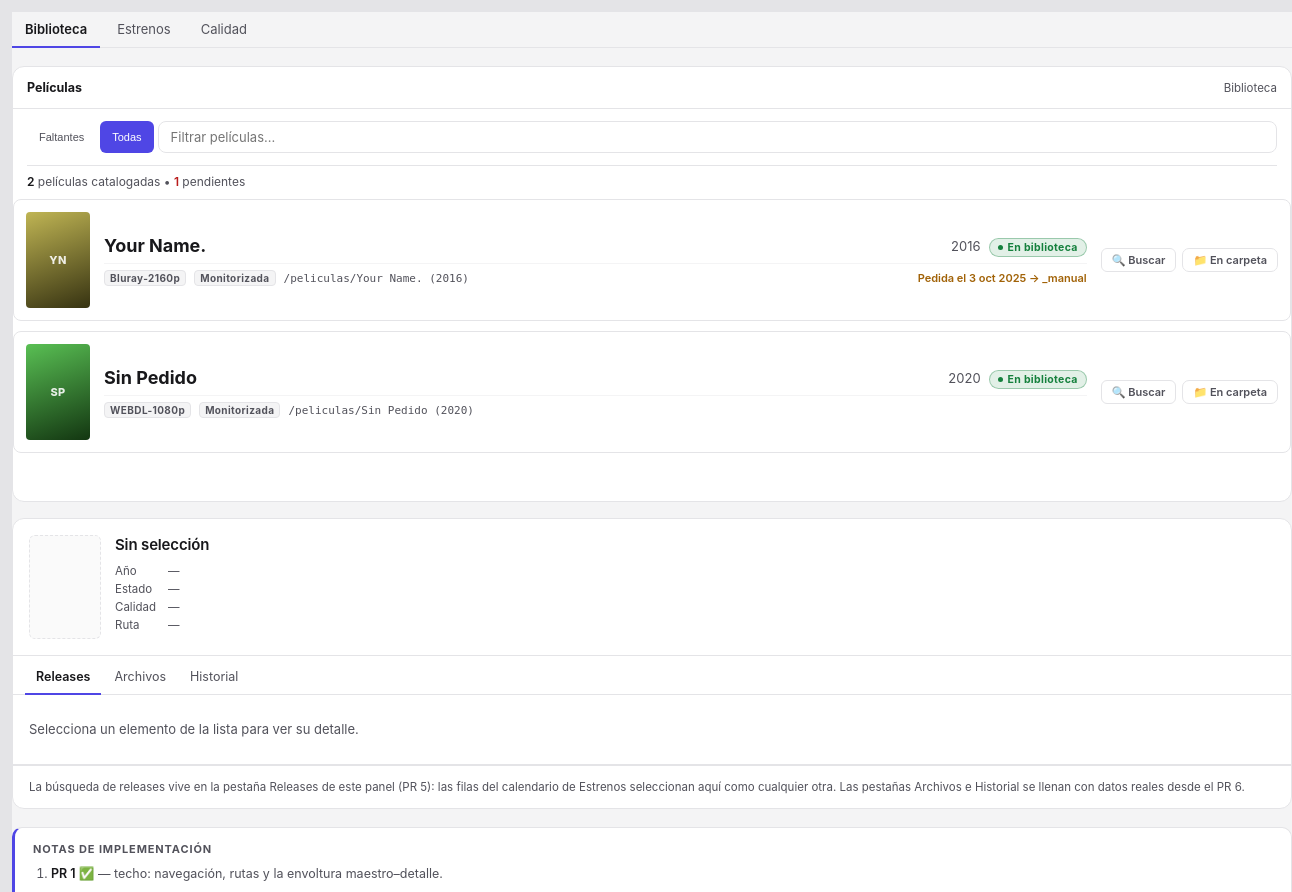
Scenario: sections · PR 6 — the detail tabs › Películas · Archivos says the entry has no path instead of guessing one
The image size is (1292, 892).
Expected: the text "Sin Pedido" is shown, [104,367,197,388]
Click the button "Faltantes" at [62, 137], box [27,121,96,153]
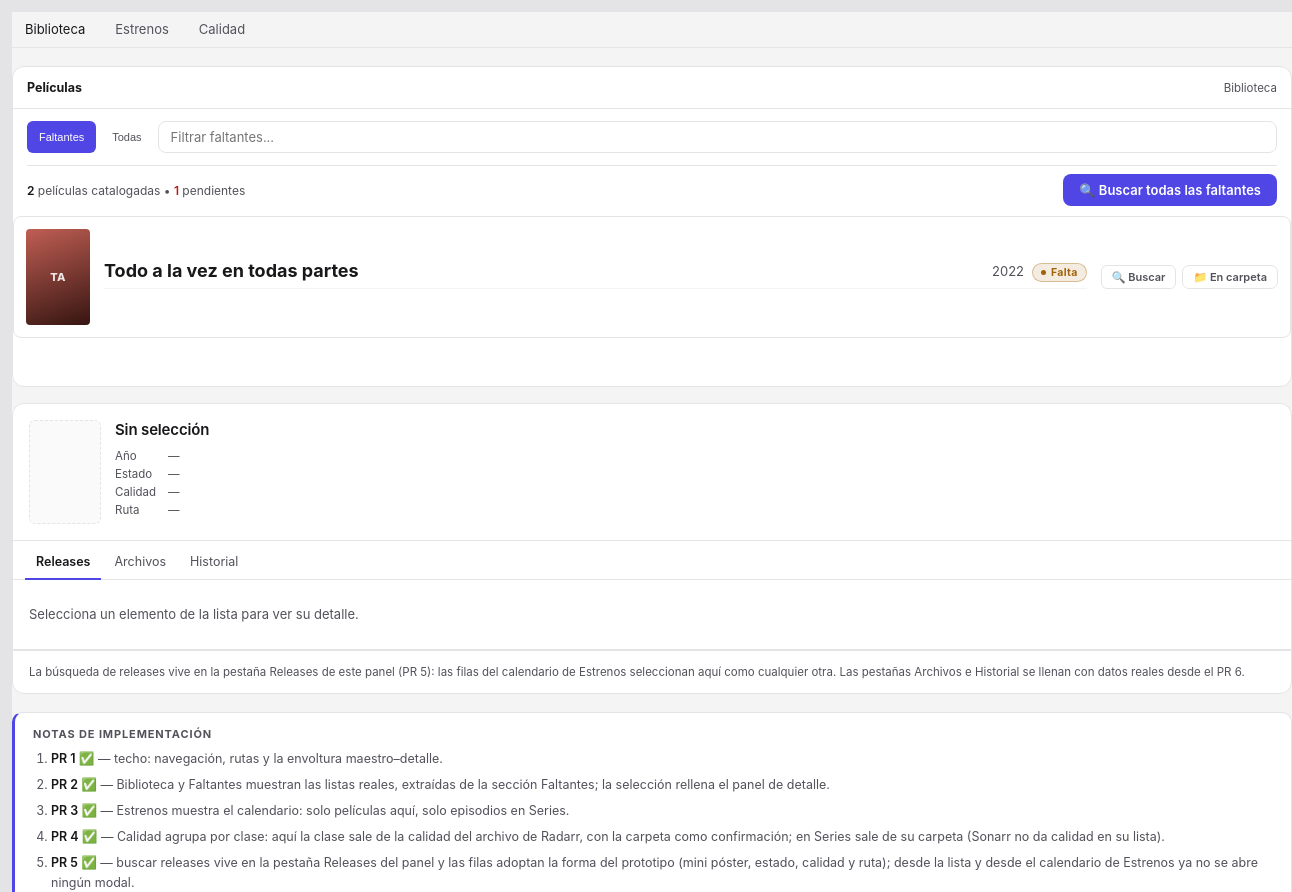
Expected: the text "Todo a la vez en todas partes" is shown, [104,260,359,281]
Click the element with class "sec-row" at [652, 277], box [13,216,1291,338]
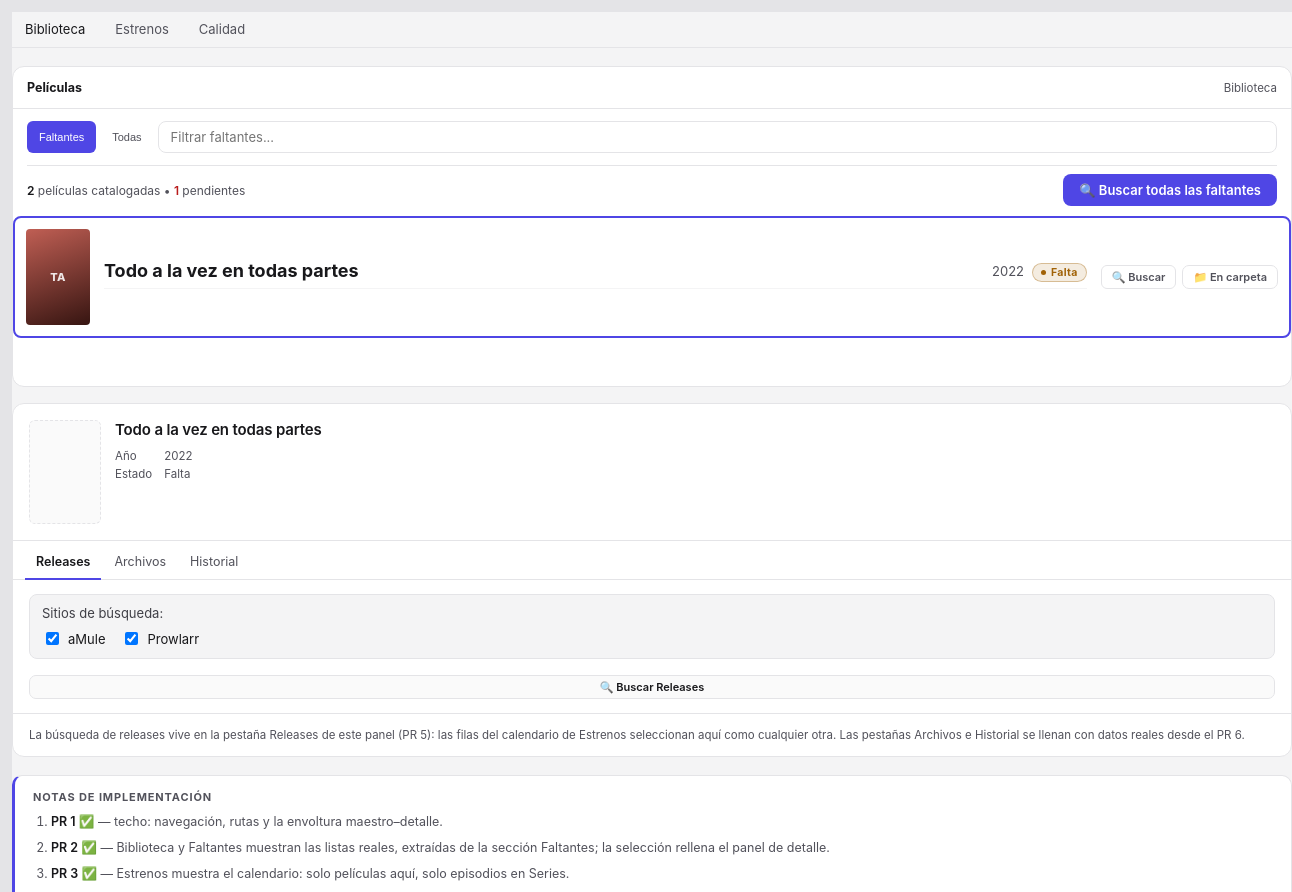
Click the button "Archivos" at [140, 562], box [104,545,177,580]
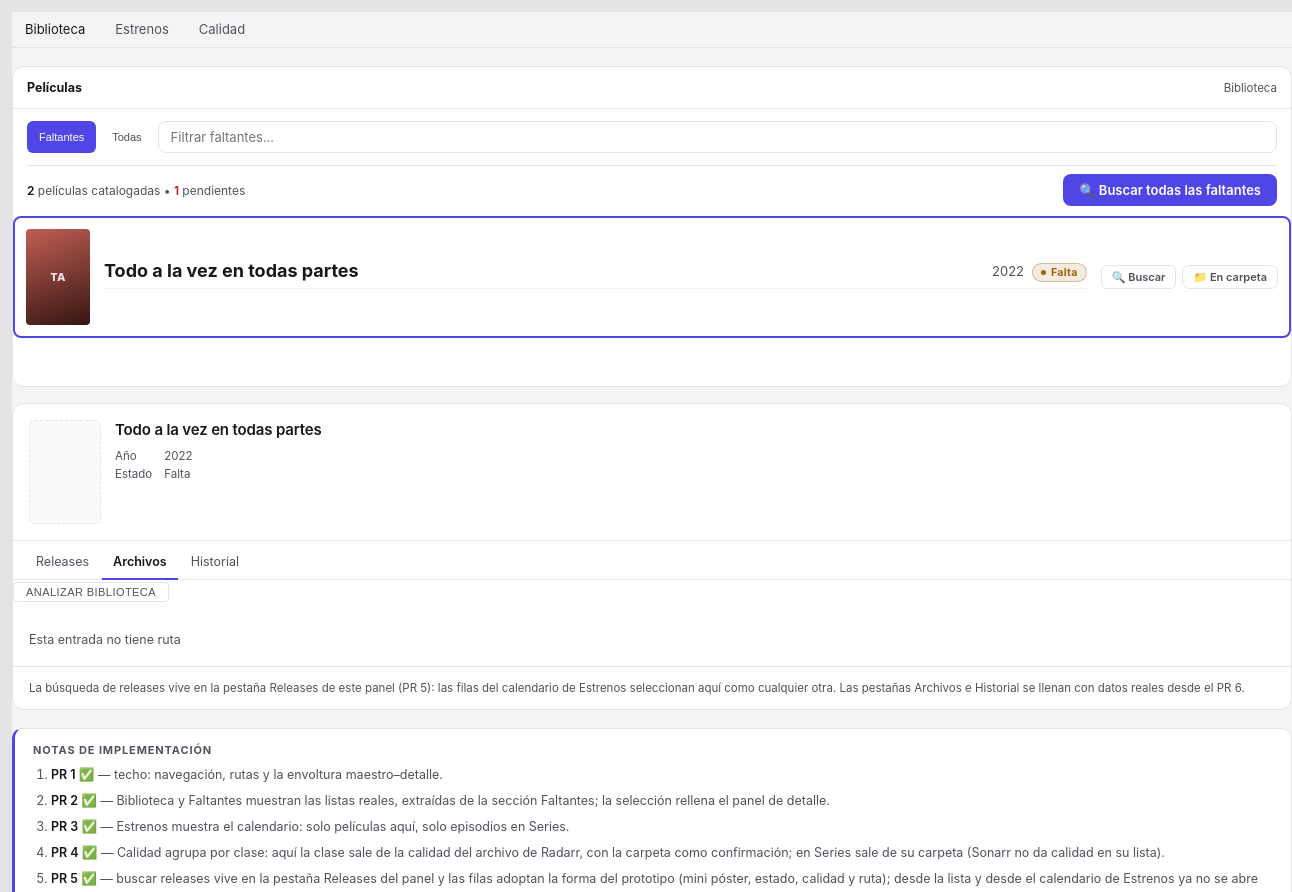
Expected: the text "Esta entrada no tiene ruta" is shown, [29,632,181,647]
